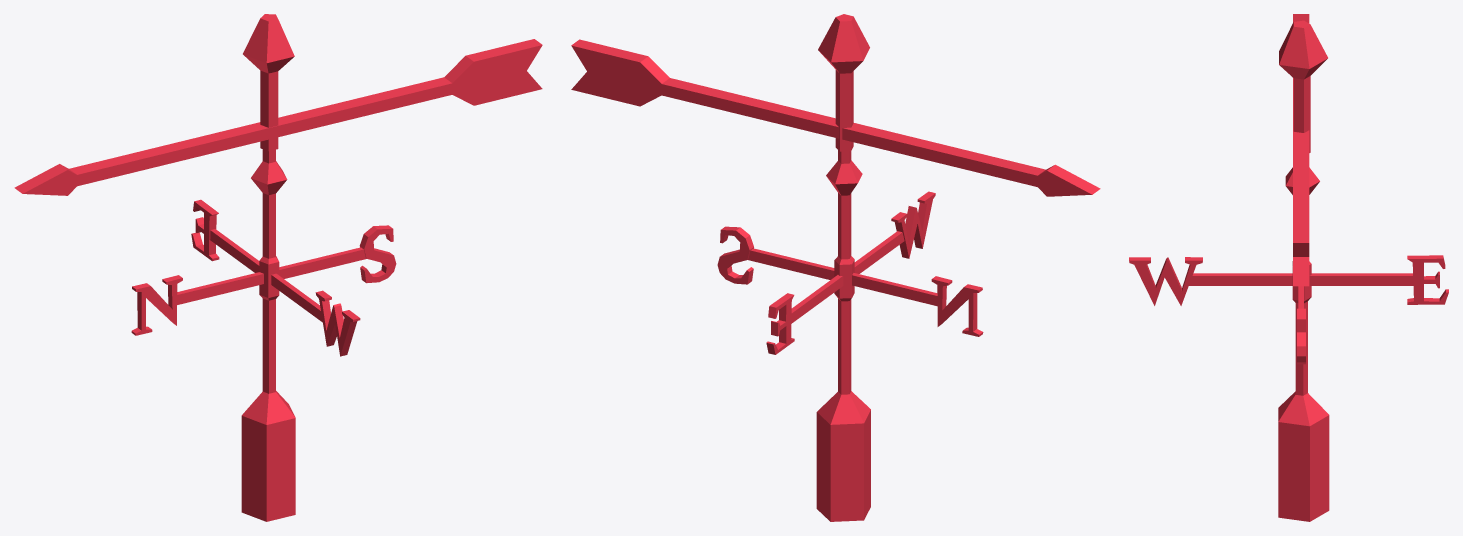
File: SM_Weather_Vane_C.fbx
The picture shows the model from 3 angles, left to right: view 1: azimuth 30°, elevation 25°; view 2: azimuth 150°, elevation 25°; view 3: azimuth 270°, elevation 25°; orthographic projection.
Parts seen in each view (by area): view 1: weather-vane-c-base, weather-vane-c-top; view 2: weather-vane-c-base, weather-vane-c-top; view 3: weather-vane-c-base, weather-vane-c-top.
Part boxes in pixels (x1=…): weather-vane-c-base: x1=131, y1=149, x2=396, y2=521; weather-vane-c-top: x1=14, y1=14, x2=542, y2=195; weather-vane-c-base: x1=717, y1=150, x2=983, y2=521; weather-vane-c-top: x1=571, y1=14, x2=1100, y2=196; weather-vane-c-base: x1=1129, y1=167, x2=1448, y2=521; weather-vane-c-top: x1=1279, y1=14, x2=1327, y2=286.
Size of the model in its own units: 1.18 by 1.07 by 0.6355.
